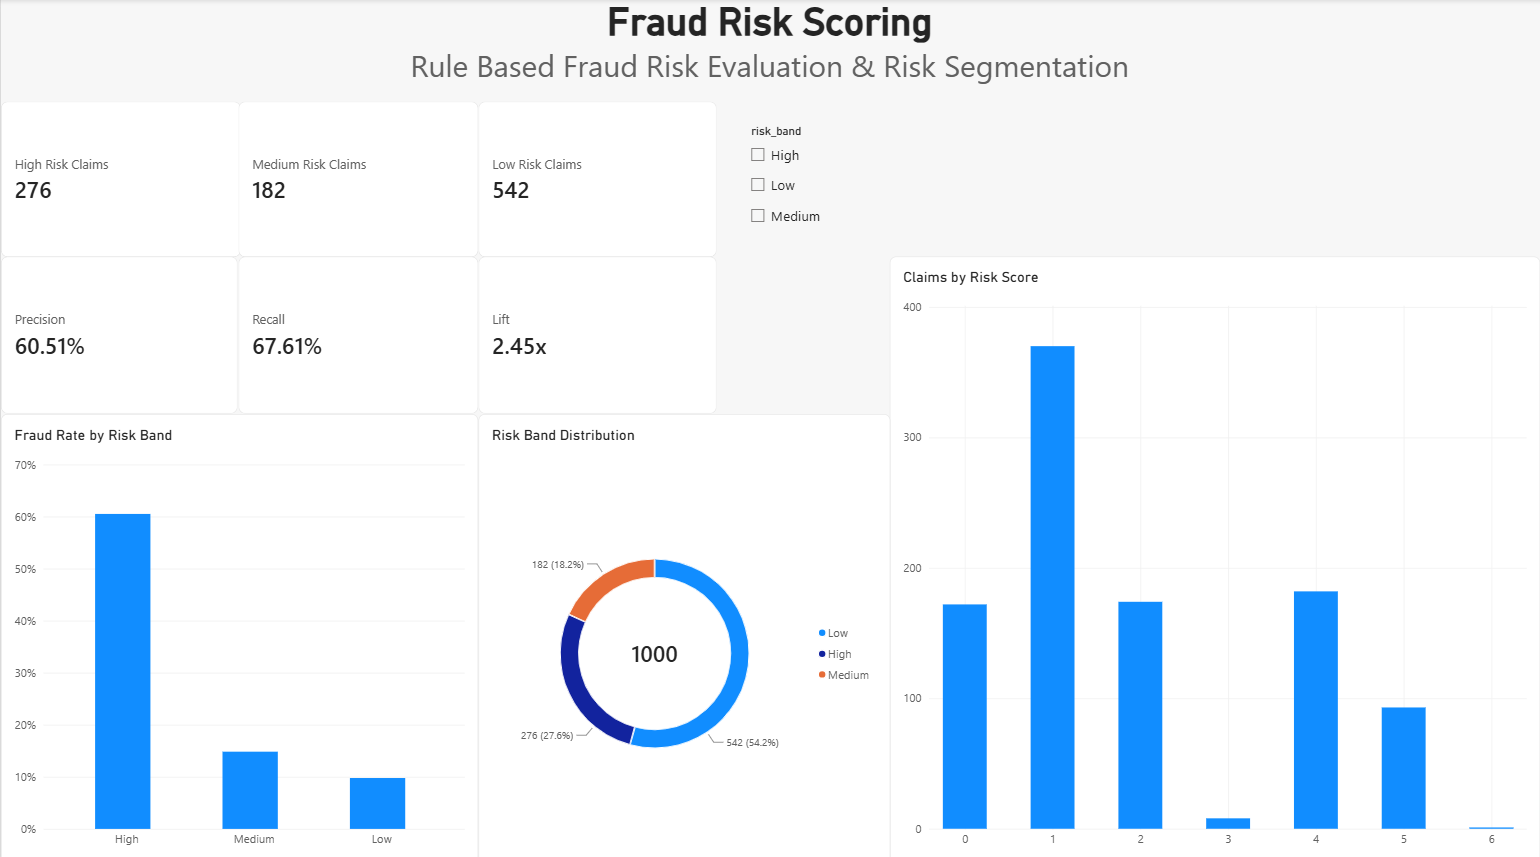

The page's visual inventory and layout, read from the dashboard file:
{"tool":"powerbi","page":{"name":"fraud risk scoring","canvas":[1920,1080],"ordinal":1},"visuals":[{"type":"textbox","title":"Fraud Risk Scoring","box":[469.6,0,979,110.2],"z":10001},{"type":"cardVisual","fields":{"Data":["CountNonNull(fraud_risk_score.claim_id)"]},"box":[0,127.9,299.9,194],"z":10002},{"type":"cardVisual","fields":{"Data":["CountNonNull(fraud_risk_score.claim_id)"]},"box":[295.5,127.9,299.9,194],"z":10003},{"type":"cardVisual","fields":{"Data":["CountNonNull(fraud_risk_score.claim_id)"]},"box":[595.3,127.9,297.7,194],"z":10004},{"type":"clusteredColumnChart","title":"Fraud Rate by Risk Band","fields":{"Category":["fraud_risk_score.risk_band"],"Y":["dim_customer.Fraud Rate by Risk Band"]},"box":[0,518.1,595.3,562.2],"z":10006},{"type":"clusteredColumnChart","title":"Claims by Risk Score","fields":{"Category":["fraud_risk_score.risk_score"],"Y":["CountNonNull(fraud_risk_score.claim_id)"]},"box":[1109.1,321.9,811.4,758.5],"z":10007},{"type":"cardVisual","fields":{"Data":["dim_customer.Fraud Risk Precision"]},"box":[0,321.9,295.5,196.2],"z":10008},{"type":"cardVisual","fields":{"Data":["dim_customer.Fraud Risk Recall"]},"box":[295.5,321.9,299.9,196.2],"z":10009},{"type":"cardVisual","fields":{"Data":["dim_customer.Fraud Risk Lift Display"]},"box":[595.3,321.9,297.7,196.2],"z":10010},{"type":"donutChart","title":"Risk Band Distribution","fields":{"Category":["fraud_risk_score.risk_band"],"Y":["CountNonNull(fraud_risk_score.claim_id)"]},"box":[595.3,518.1,513.7,562.2],"z":10011},{"type":"slicer","fields":{"Values":["fraud_risk_score.risk_band"]},"box":[928.3,156.5,180.8,165.4],"z":10012}]}

Visuals, with their boxes in screenshot pixels (x1, y1, x2, y2), scaled from the page's 1920x1080 canvas onto the 1540x857 screenshot:
"Fraud Risk Scoring" textbox: 377, 0, 1162, 87
cardVisual - CountNonNull(fraud_risk_score.claim_id): 0, 101, 241, 255
cardVisual - CountNonNull(fraud_risk_score.claim_id): 237, 101, 478, 255
cardVisual - CountNonNull(fraud_risk_score.claim_id): 477, 101, 716, 255
"Fraud Rate by Risk Band" clusteredColumnChart: 0, 411, 477, 856
"Claims by Risk Score" clusteredColumnChart: 890, 255, 1539, 856
cardVisual - dim_customer.Fraud Risk Precision: 0, 255, 237, 411
cardVisual - dim_customer.Fraud Risk Recall: 237, 255, 478, 411
cardVisual - dim_customer.Fraud Risk Lift Display: 477, 255, 716, 411
"Risk Band Distribution" donutChart: 477, 411, 890, 856
slicer - fraud_risk_score.risk_band: 745, 124, 890, 255
